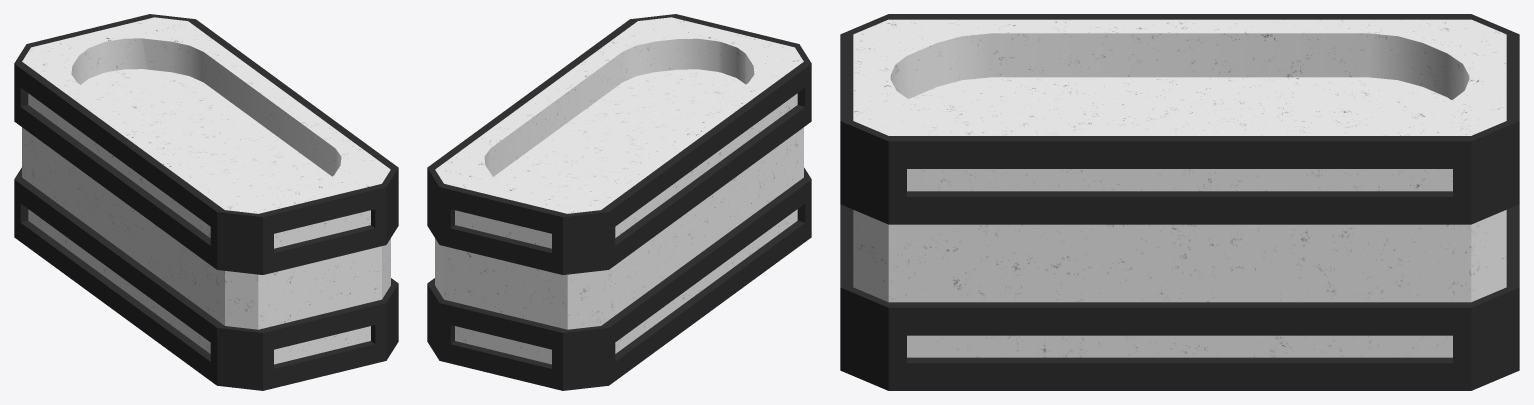
Rendered from space table 1.1 .fbx.
3 views of the same model, side by side, from view 1: azimuth 30°, elevation 25°; view 2: azimuth 150°, elevation 25°; view 3: azimuth 270°, elevation 25° (orthographic). The views are drawn at different scales.
Visible parts, largest first — view 1: Cube.066; view 2: Cube.066; view 3: Cube.066.
Part boxes in pixels (x1,y1,x2,y2): Cube.066: [14, 14, 398, 390]; Cube.066: [427, 14, 811, 390]; Cube.066: [840, 14, 1519, 390].
Size of the model in its own units: 3.28 by 3 by 7.4.
